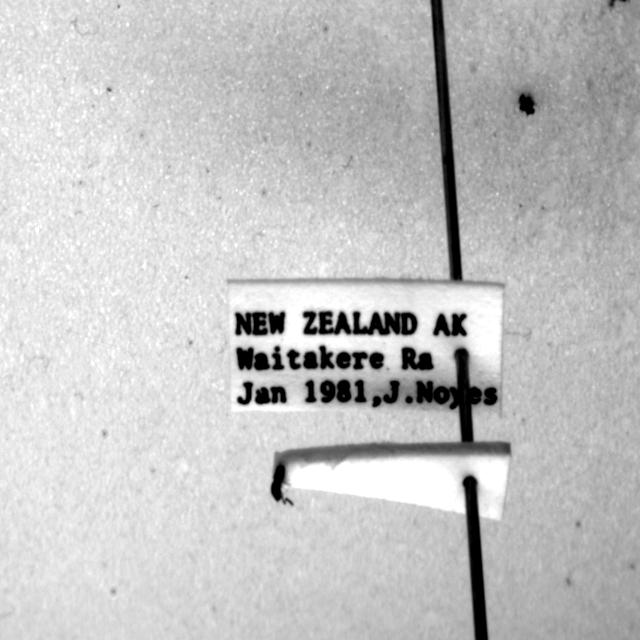typed_label: (228, 279, 504, 414)
